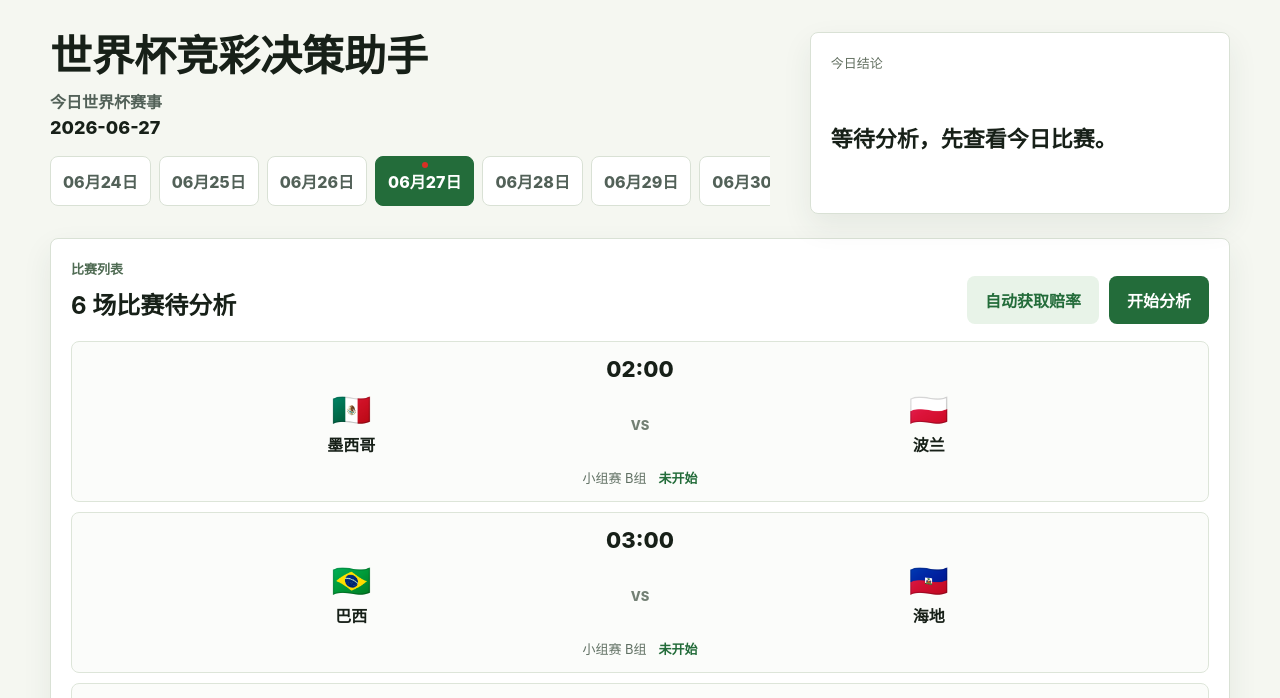
Test: App › shows a concise retry message when odds fetching fails
Step 1. Click the button "自动获取赔率" → (1033, 300), box [967,276,1099,324]
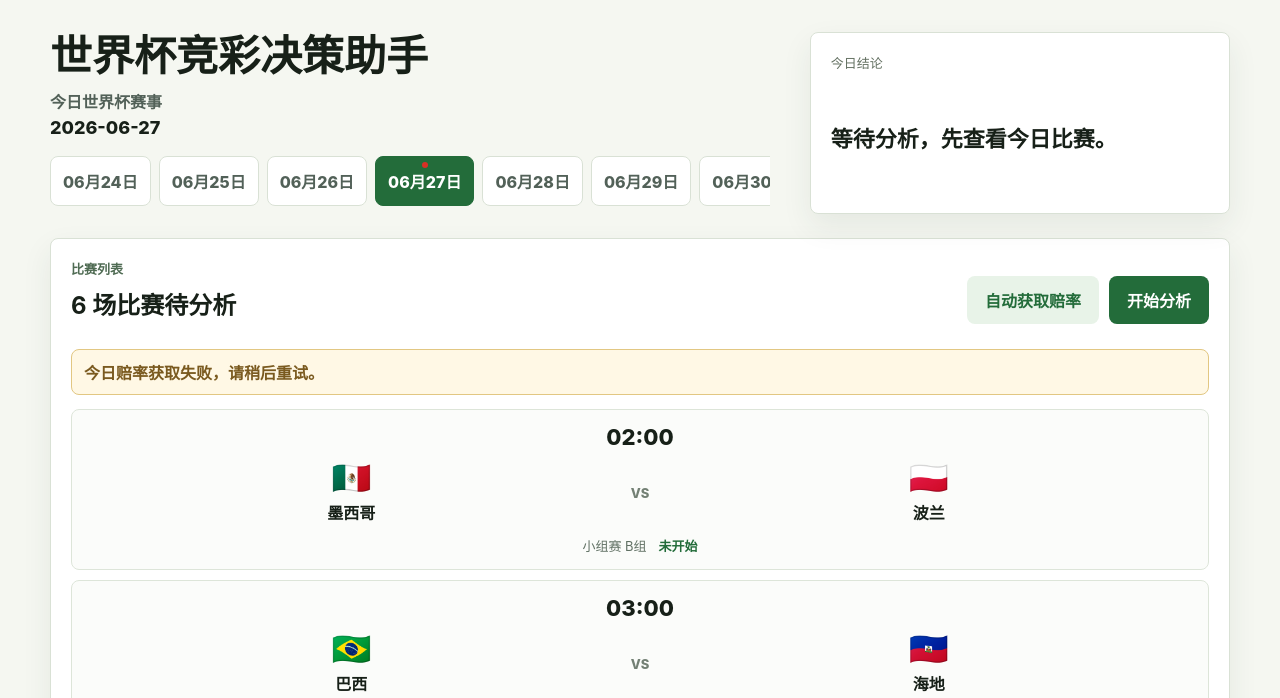
Expected: the text "今日赔率获取失败，请稍后重试。" is shown, [71,349,1209,395]
